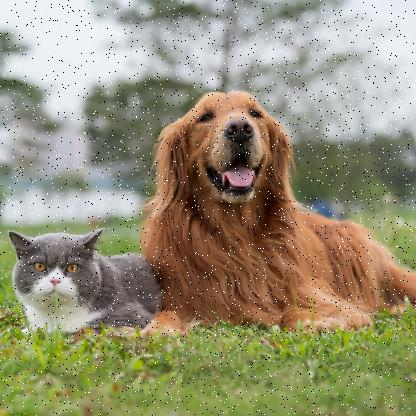cat: (3, 225, 166, 331)
dog: (149, 88, 413, 339)
